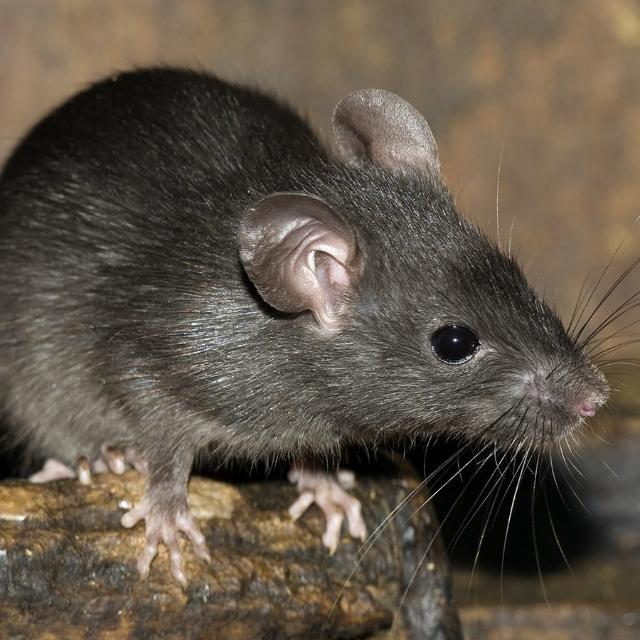rat: (2, 51, 624, 572)
